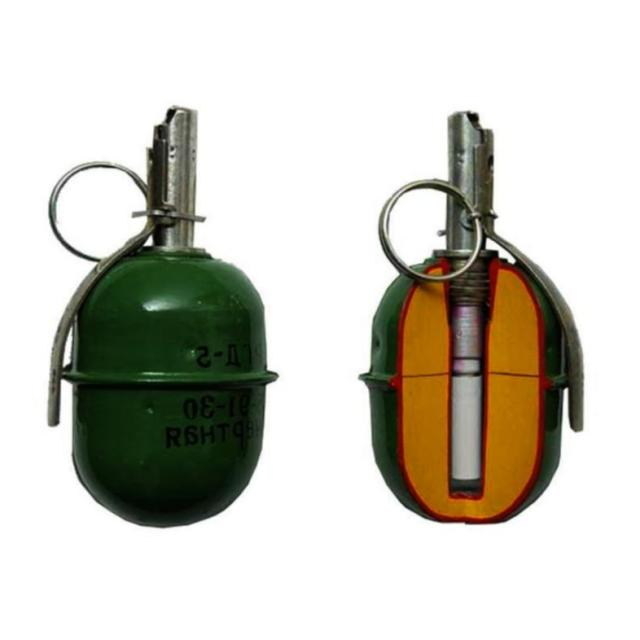grenade: (49, 109, 281, 531)
